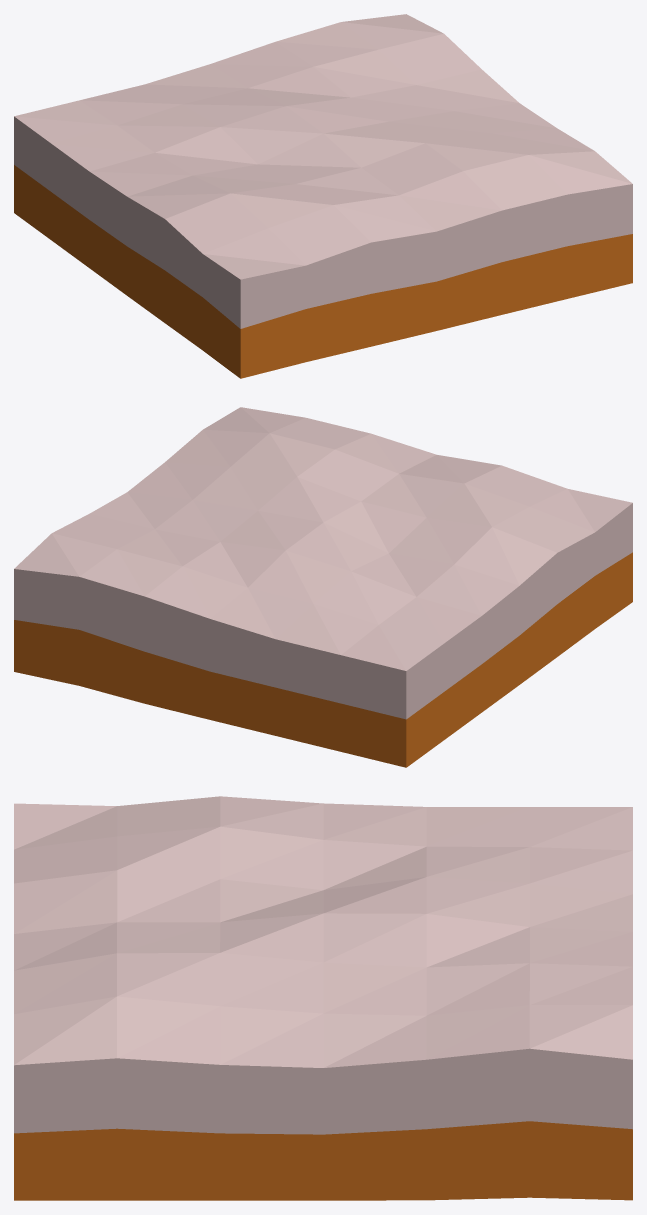
File: TILE_BASE_neutre.fbx
3 renders of one model, top to bottom at view 1: azimuth 30°, elevation 25°; view 2: azimuth 150°, elevation 25°; view 3: azimuth 270°, elevation 25°, orthographic. The views are drawn at different scales.
Parts seen in each view (by area): view 1: herbe.007; view 2: herbe.007; view 3: herbe.007.
Boxes of the visible parts, <box> form: herbe.007: <box>14,14,632,378</box>; herbe.007: <box>14,407,632,767</box>; herbe.007: <box>14,796,632,1200</box>.
Bounding box in the file's own units: 5 × 1.42 × 5.
